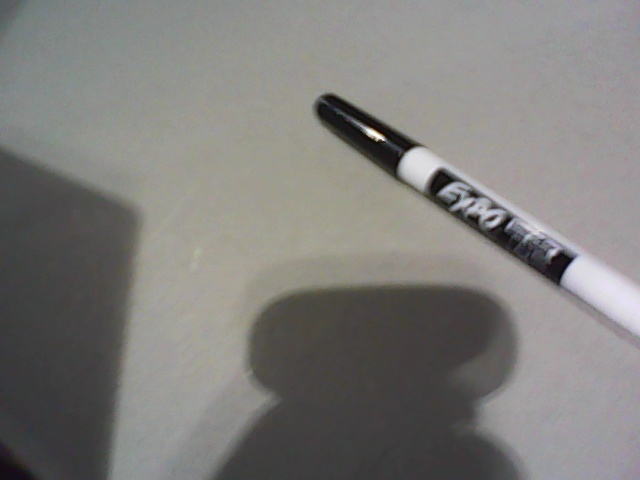marker: (316, 93, 640, 338)
